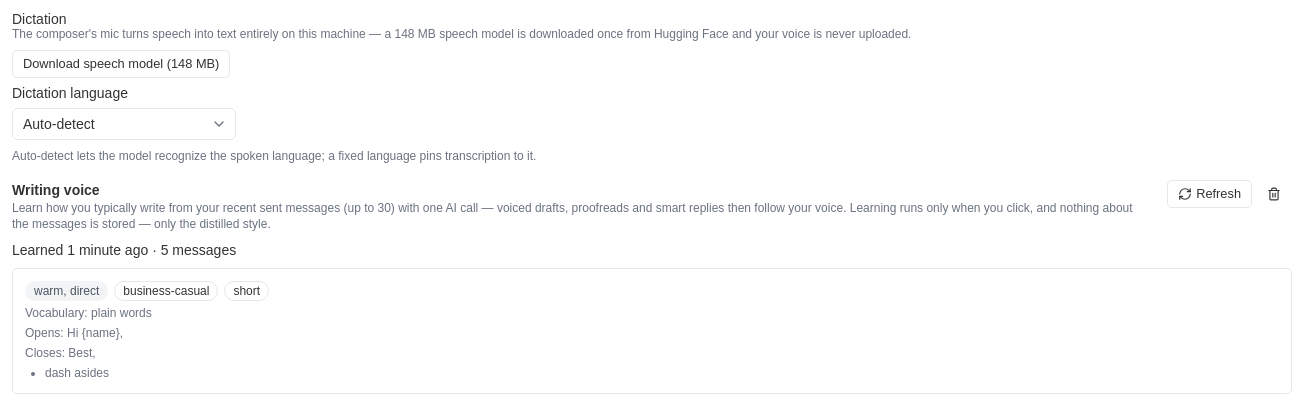
Test: dictation block › offers the download with the size stated before anything is fetched
This screenshot has width=1292, height=411.
Click the button with test id "dictation-download-start": (121, 64) [12,50,230,78]
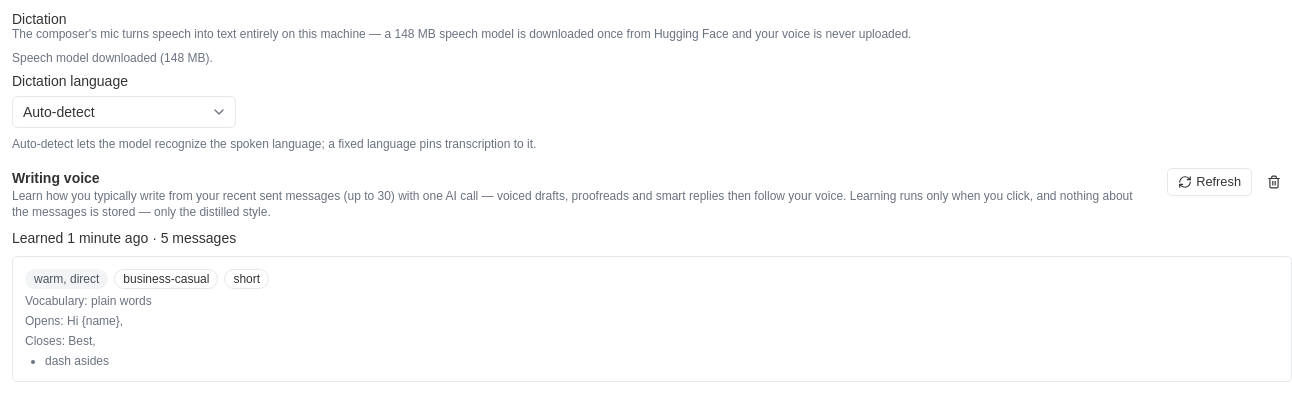
Expected: the text "Speech model downloaded (148 MB)." is shown, [12,51,213,65]
